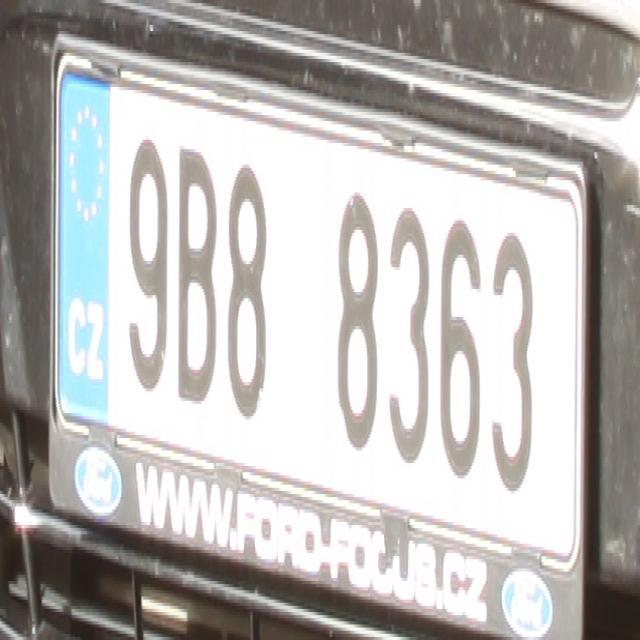3: (490, 220, 536, 500), (384, 202, 430, 466)
6: (438, 208, 485, 482)
8: (224, 158, 268, 416), (338, 187, 380, 450)
9: (126, 124, 170, 395)
B: (175, 137, 218, 400)
